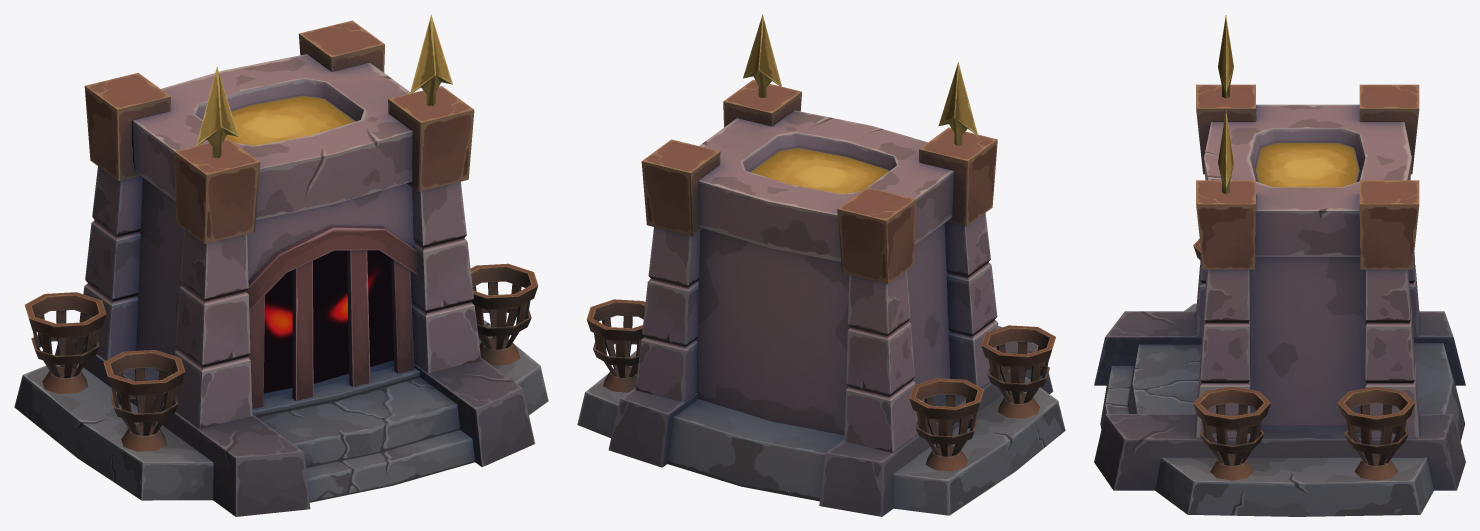
The model's file is building_04.FBX.
3 renders of one model, left to right at view 1: azimuth 30°, elevation 25°; view 2: azimuth 150°, elevation 25°; view 3: azimuth 270°, elevation 25°, orthographic. The views are drawn at different scales.
Parts seen in each view (by area): view 1: Box004; view 2: Box004; view 3: Box004.
Boxes of the visible parts, bbox=[...] form: Box004: bbox=[14, 14, 548, 516]; Box004: bbox=[577, 14, 1065, 516]; Box004: bbox=[1094, 15, 1465, 516].
Size of the model in its own units: 634 by 561 by 523.
